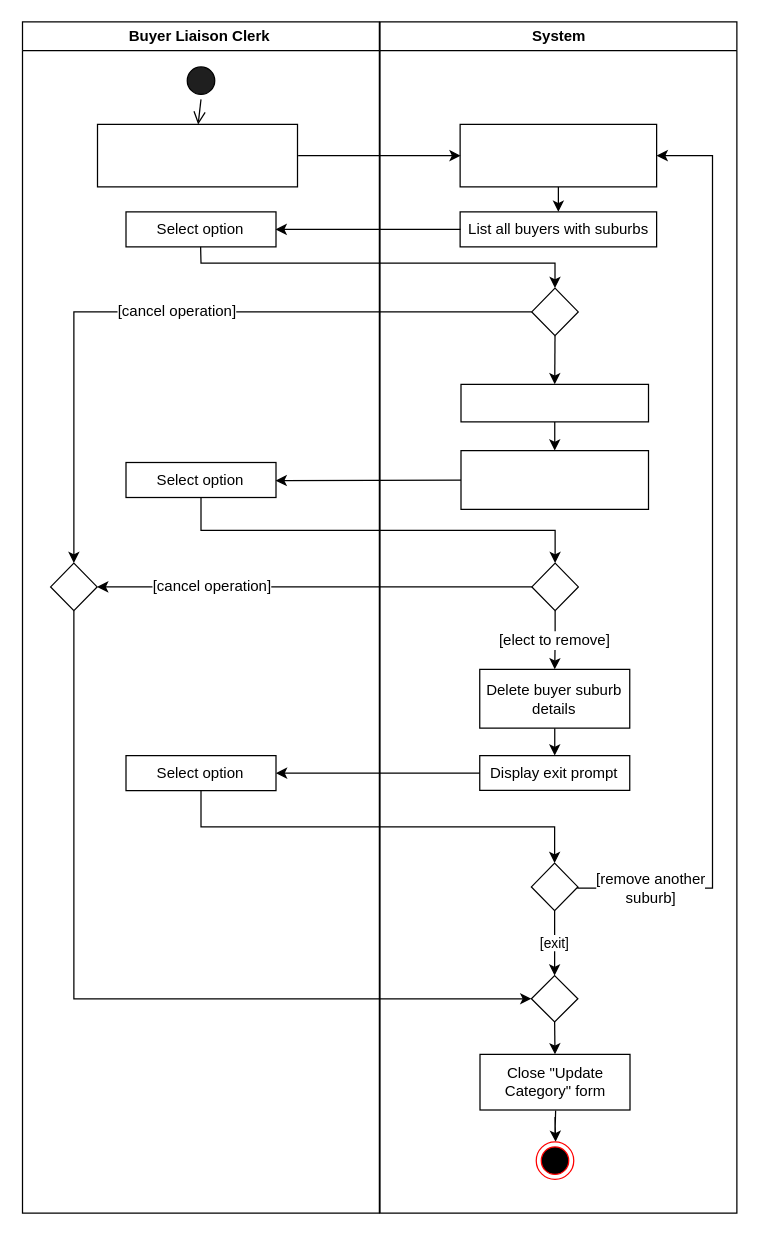
This 759x1235 diagram has some shape labels left out. Each missing label, with the centre of its shape:
Display "Remove Buyer Suburb" form: (558,155)
Display buyer details: (554,402)
Display list of suburbs for selected buyer: (554,479)
Select "Remove Buyer Suburb" option: (197,155)
